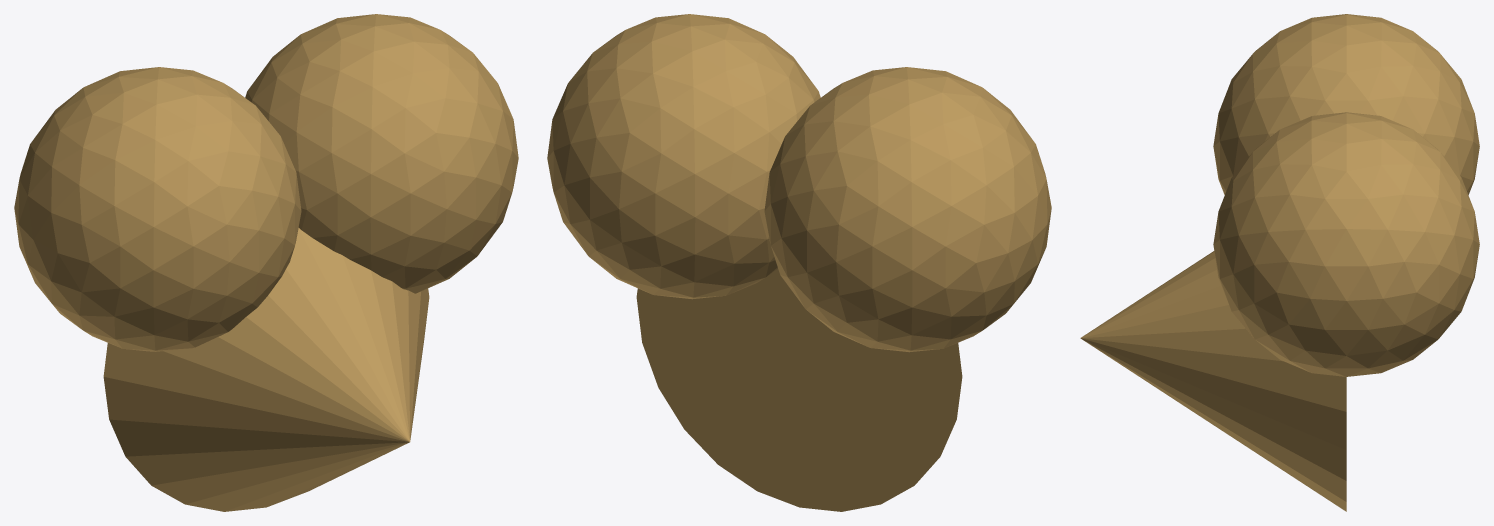
The model's file is love_009.glb.
3 views of the same model, side by side, from view 1: azimuth 30°, elevation 25°; view 2: azimuth 150°, elevation 25°; view 3: azimuth 270°, elevation 25° (orthographic). The views are drawn at different scales.
Visible parts, largest first — view 1: world; view 2: world; view 3: world.
Boxes of the visible parts, x1,y1,x2,y2 form: world: [14, 14, 518, 511]; world: [547, 14, 1051, 511]; world: [1080, 14, 1479, 511].
Bounding box in the file's own units: 2.06 × 1.92 × 1.65.
